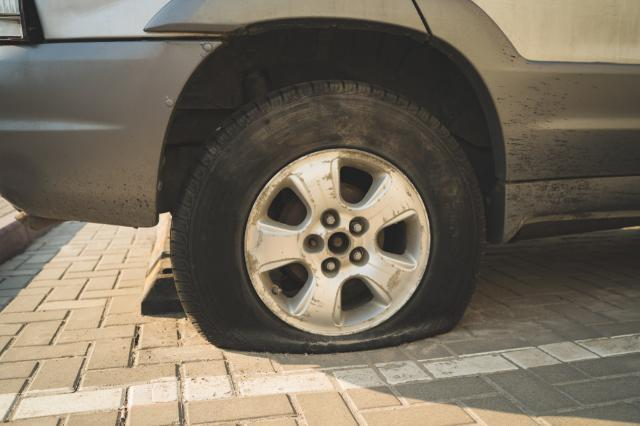tire flat: (170, 81, 487, 355)
